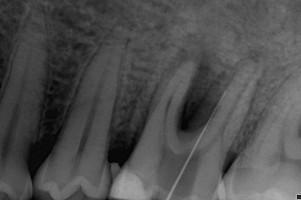Dental Caries: (161, 34, 236, 132)
